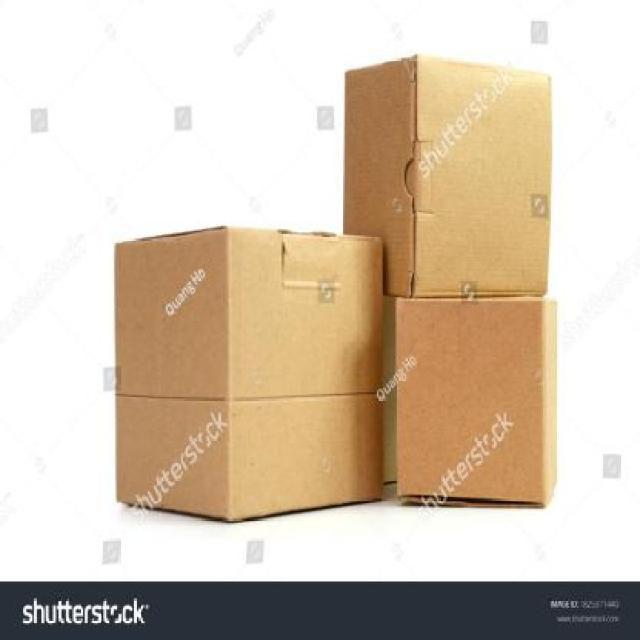BoxFace: (114, 224, 234, 524), (412, 52, 551, 298), (394, 294, 544, 508)
